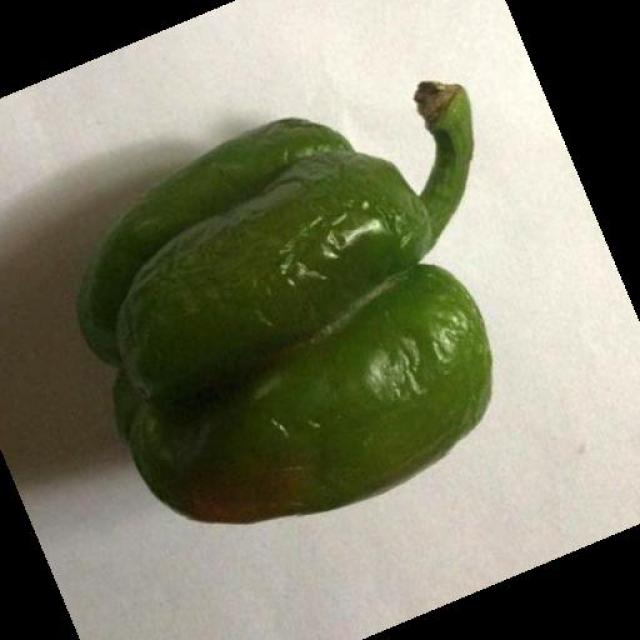Stale_Capsicum: (102, 123, 504, 508)
